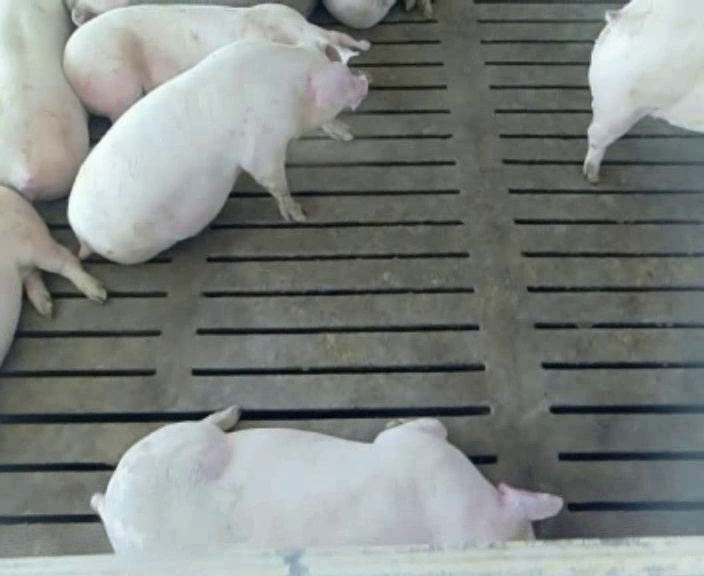pig: (91, 406, 562, 553), (583, 2, 703, 181), (323, 1, 394, 28)
